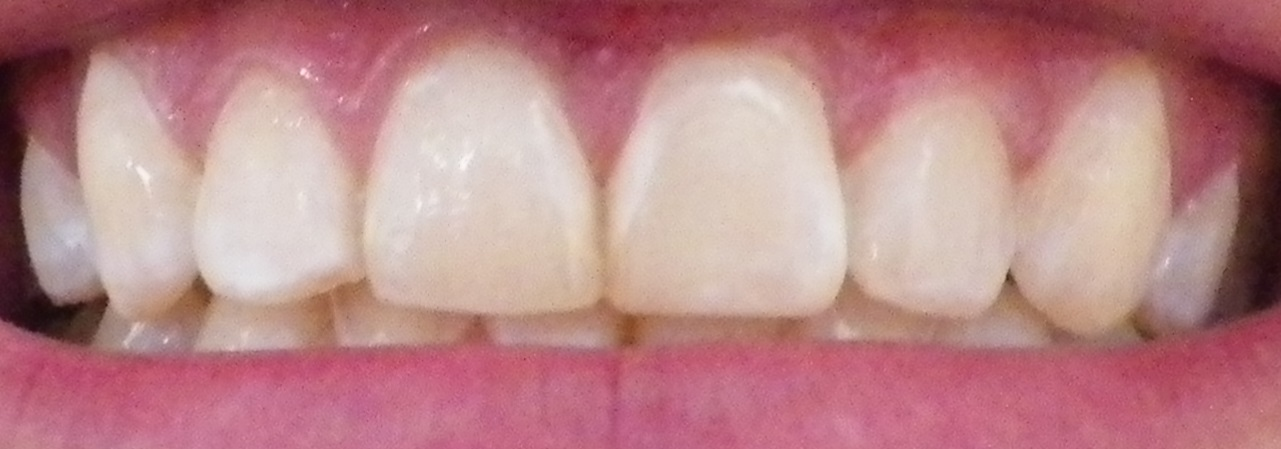boca: (22, 55, 1269, 356)
